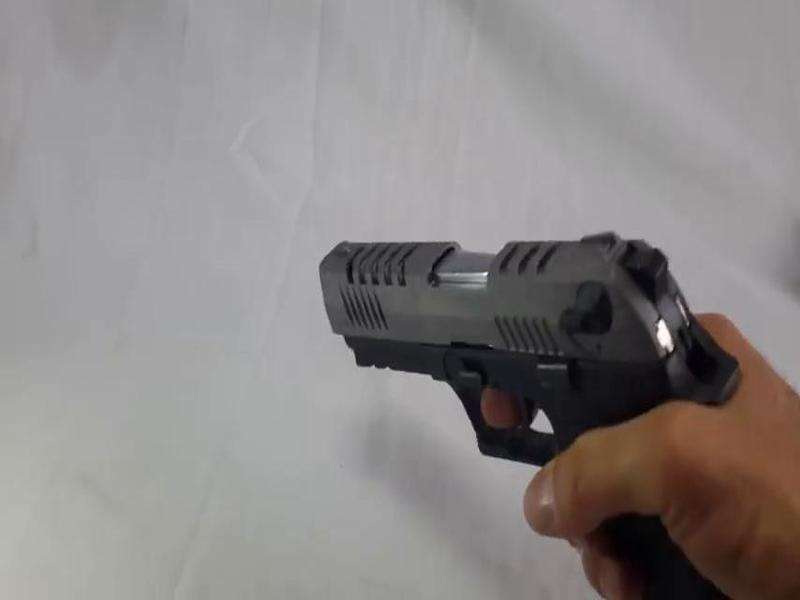Pistola: (312, 210, 746, 587)
